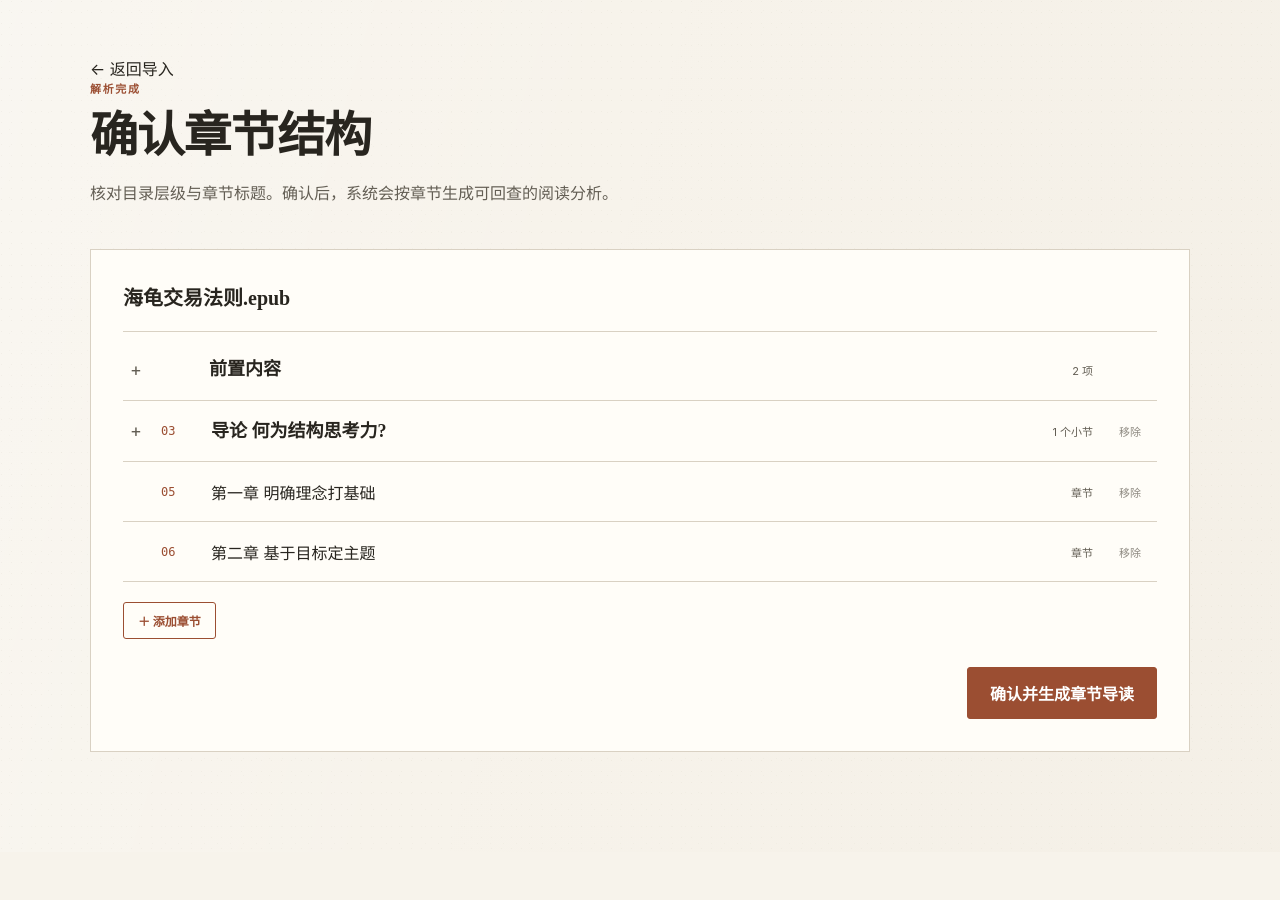
Test case: ChapterEditor hierarchy › keeps a publisher-declared introduction subtree in the body before chapter one
The width and height of the screenshot is (1280, 900).
Expected: the text "2 项" is shown, [1072, 364, 1093, 378]
Expected: the button named "展开「导论 何为结构思考力?」的小节" is shown, [123, 418, 149, 444]
Click the button named "展开前置内容".
click(136, 370)  # box [123, 357, 149, 383]
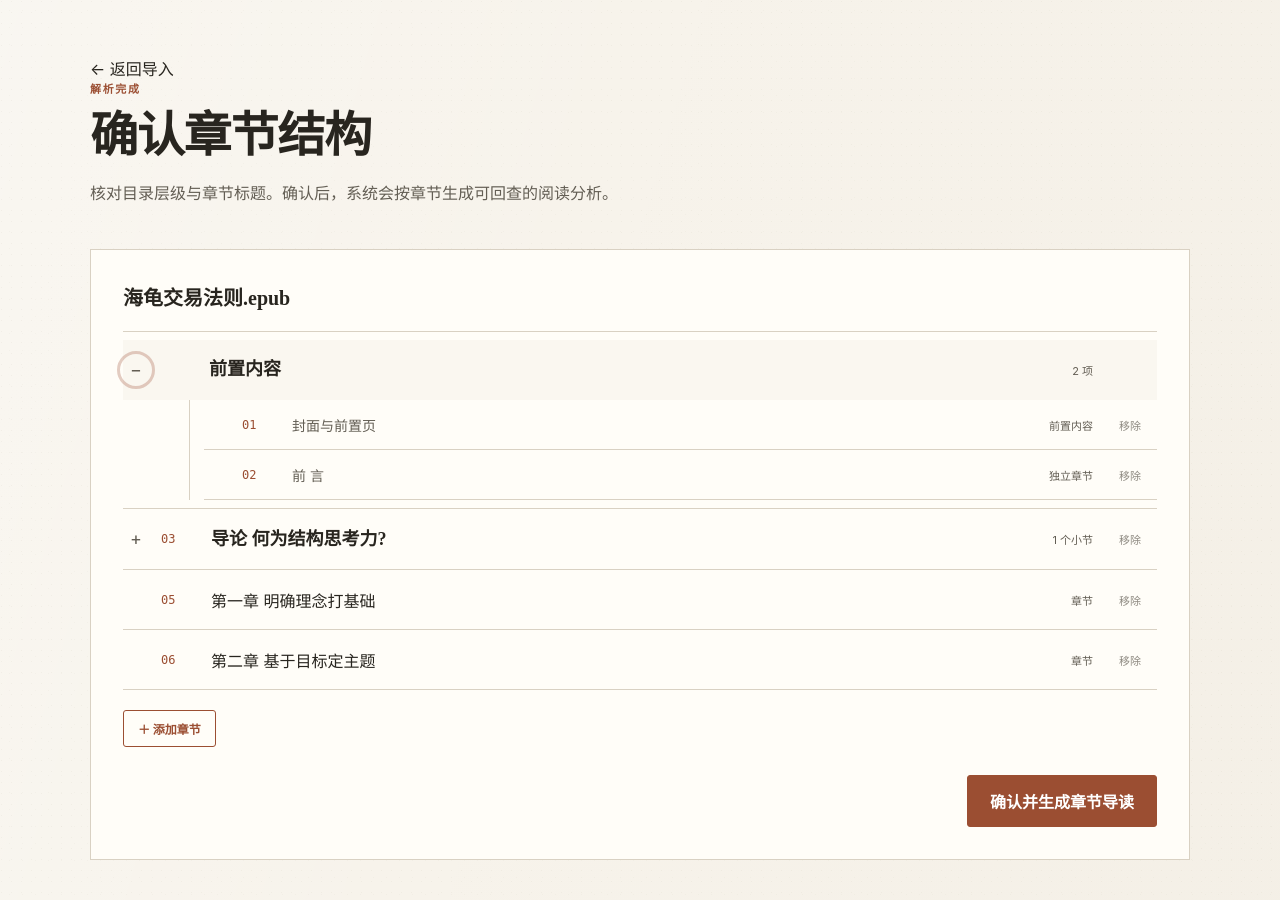
Expected: the field showing "前 言" next to "02" is shown, [290, 458, 1001, 490]
